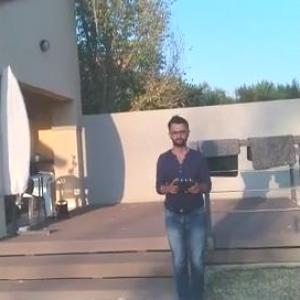follow: (149, 109, 218, 299)
